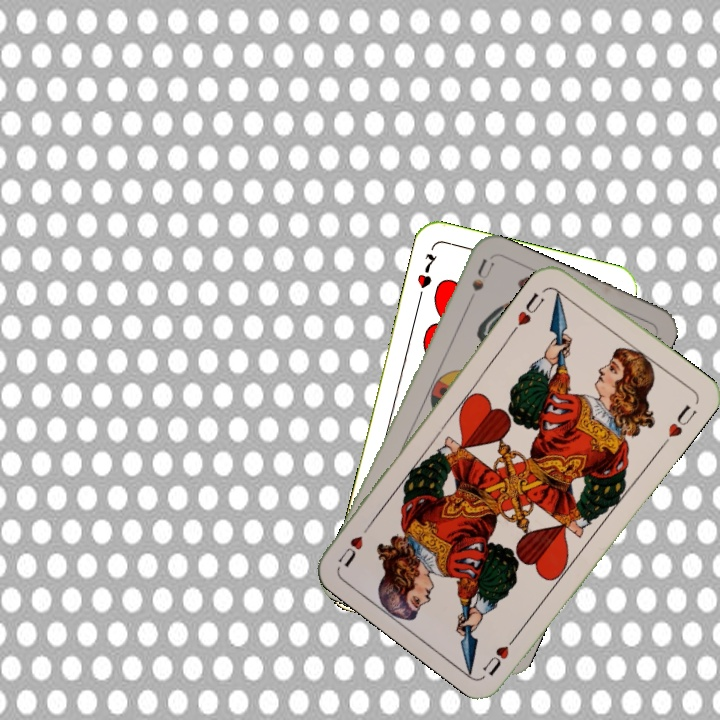H7: (413, 249, 440, 303)
HU: (479, 628, 523, 679), (509, 288, 548, 334)
SU: (461, 255, 496, 313)
